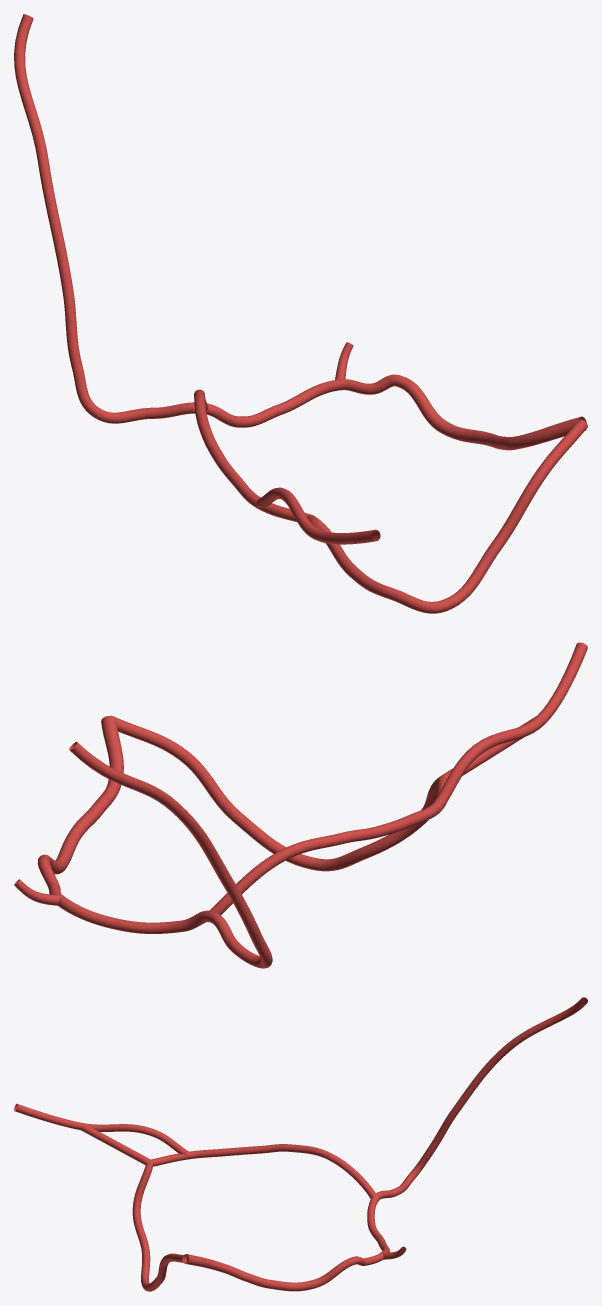
3 views of the same model, one above another, from view 1: azimuth 30°, elevation 25°; view 2: azimuth 150°, elevation 25°; view 3: azimuth 270°, elevation 25° (orthographic). The views are drawn at different scales.
Parts seen in each view (by area): view 1: 右侧髌网; view 2: 右侧髌网; view 3: 右侧髌网.
Boxes of the visible parts, left/top/right/bottom form: 右侧髌网: left=14, top=14, right=587, bottom=613; 右侧髌网: left=14, top=642, right=587, bottom=968; 右侧髌网: left=14, top=997, right=587, bottom=1291.
Size of the model in its own units: 0.0904 by 0.0938 by 0.1884.
